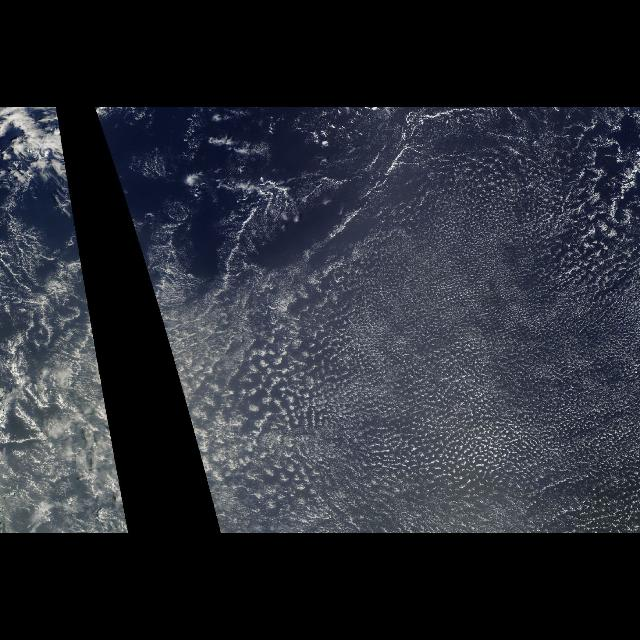Sugar: (100, 109, 640, 534), (5, 127, 132, 533)
